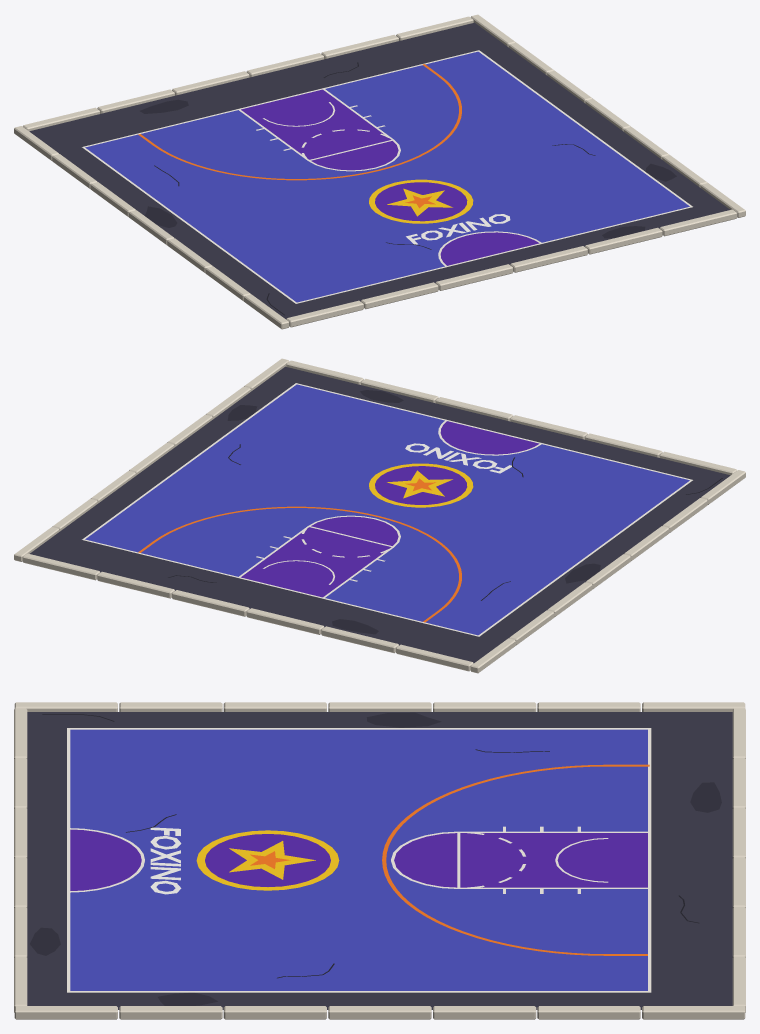
The model's file is sb-court.glb.
The picture shows the model from 3 angles, top to bottom: view 1: azimuth 30°, elevation 25°; view 2: azimuth 150°, elevation 25°; view 3: azimuth 270°, elevation 25°; orthographic projection. The views are drawn at different scales.
Visible parts, largest first — view 1: Court; view 2: Court; view 3: Court.
Part boxes in pixels (x1=…): Court: x1=14, y1=14, x2=745, y2=329; Court: x1=14, y1=358, x2=745, y2=673; Court: x1=14, y1=702, x2=745, y2=1019.
Size of the model in its own units: 17.64 by 0.2401 by 17.64.
